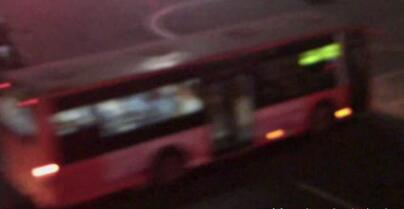bus: (0, 9, 372, 207)
